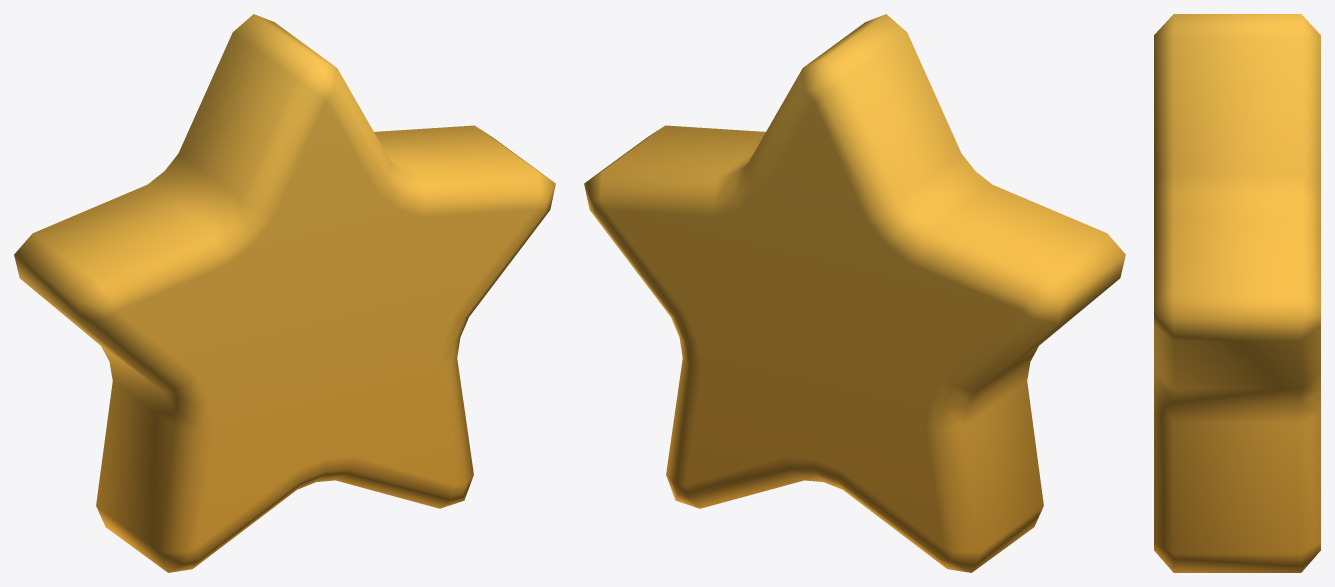
File: star_toon_material_0.001.glb
3 views of the same model, side by side, from view 1: azimuth 30°, elevation 25°; view 2: azimuth 150°, elevation 25°; view 3: azimuth 270°, elevation 25° (orthographic).
Parts seen in each view (by area): view 1: star_toon_material_0.001; view 2: star_toon_material_0.001; view 3: star_toon_material_0.001.
Boxes of the visible parts, x1=… form: star_toon_material_0.001: x1=14, y1=14, x2=555, y2=572; star_toon_material_0.001: x1=584, y1=14, x2=1125, y2=572; star_toon_material_0.001: x1=1154, y1=14, x2=1320, y2=572.
Bounding box in the file's own units: 0.6434 × 0.6147 × 0.1907.
Materials: 1 (1 with a texture image).
